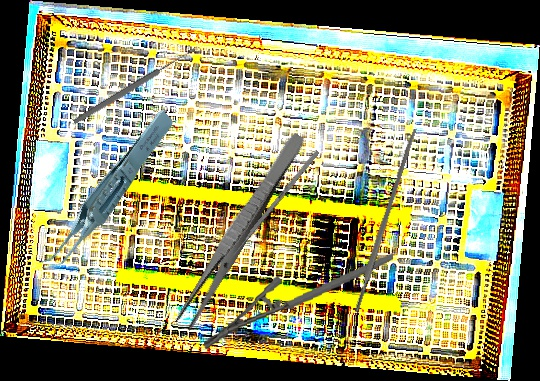Dressing Forceps: (172, 128, 308, 333)
Needle Holder: (196, 252, 401, 352)
Pusher: (226, 149, 320, 264)
Scalpel Handle: (351, 127, 419, 313)
Surgical Spoon: (72, 46, 197, 126)
Tissue Forceps: (10, 107, 200, 275)
